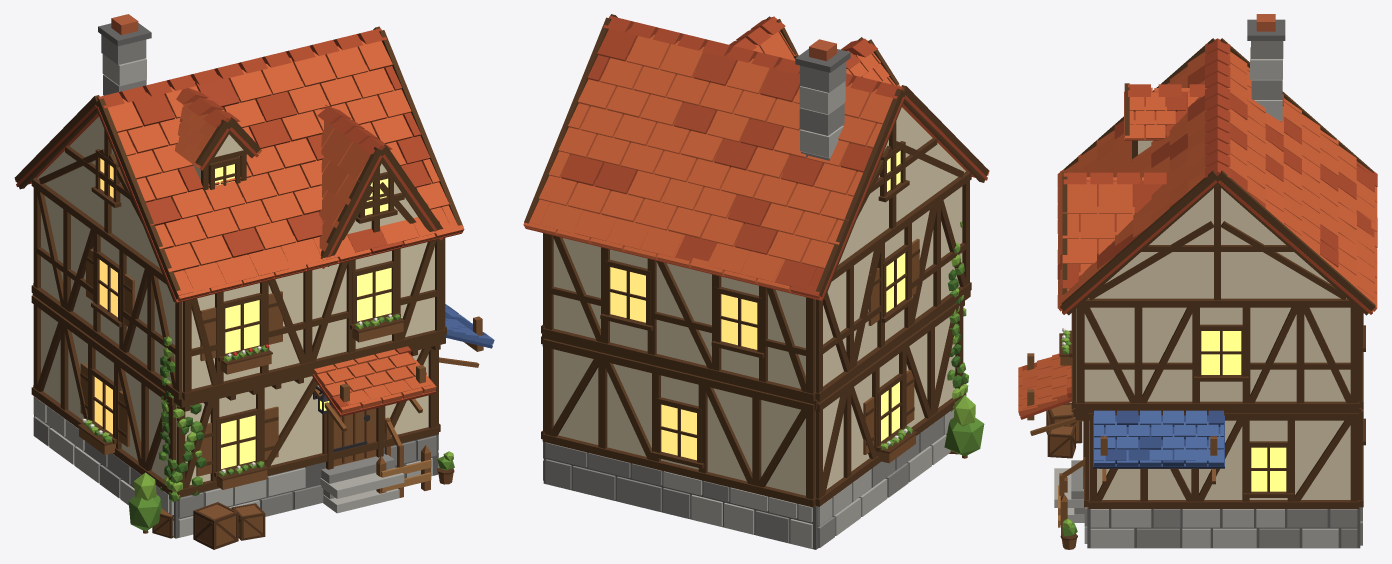
The model's file is Town_01_RedPorch.fbx.
The picture shows the model from 3 angles, left to right: view 1: azimuth 30°, elevation 25°; view 2: azimuth 150°, elevation 25°; view 3: azimuth 270°, elevation 25°; orthographic projection. The views are drawn at different scales.
Visible parts, largest first — view 1: Town_01_RedPorch_LOD0; view 2: Town_01_RedPorch_LOD0; view 3: Town_01_RedPorch_LOD0.
Boxes of the visible parts, left/top/right/bottom form: Town_01_RedPorch_LOD0: left=14, top=14, right=494, bottom=549; Town_01_RedPorch_LOD0: left=523, top=14, right=989, bottom=549; Town_01_RedPorch_LOD0: left=1018, top=14, right=1377, bottom=549.
Size of what is drawn, in the model's own units: 7.91 by 9.43 by 7.21.
